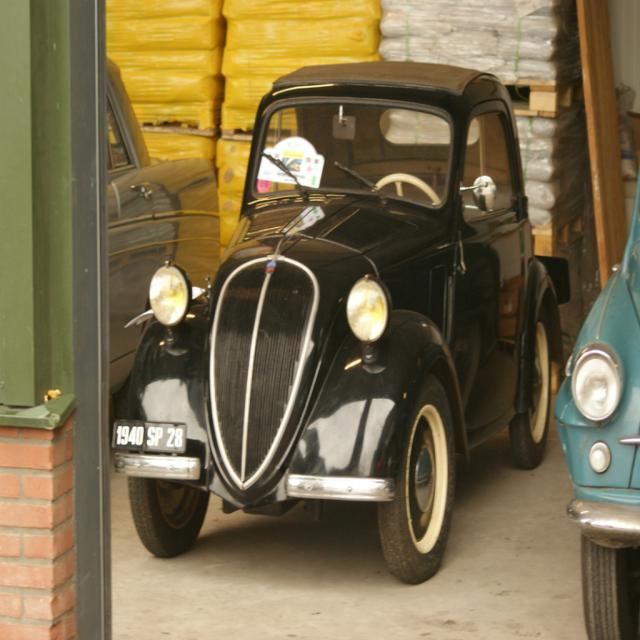car: (110, 53, 569, 583)
